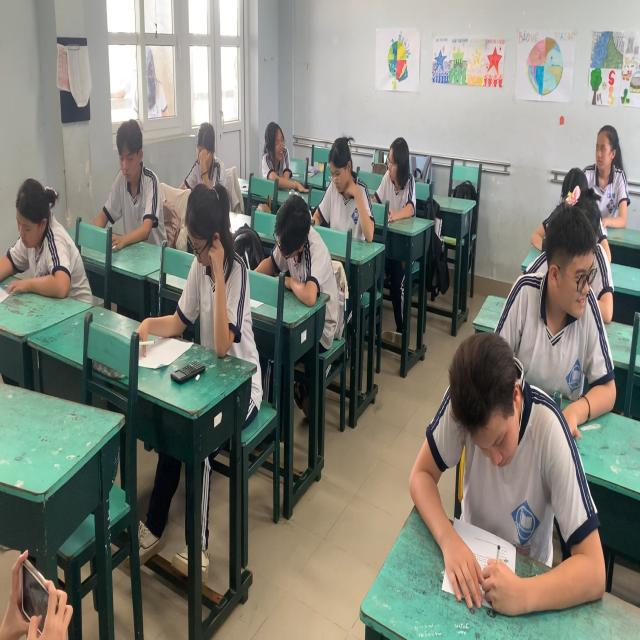cheating: (522, 215, 611, 423), (246, 102, 320, 192), (378, 135, 422, 226)
not_cheating: (424, 333, 560, 595), (168, 190, 247, 350), (6, 170, 90, 298), (90, 122, 169, 243), (326, 112, 376, 243), (269, 192, 323, 294), (187, 122, 230, 188)
